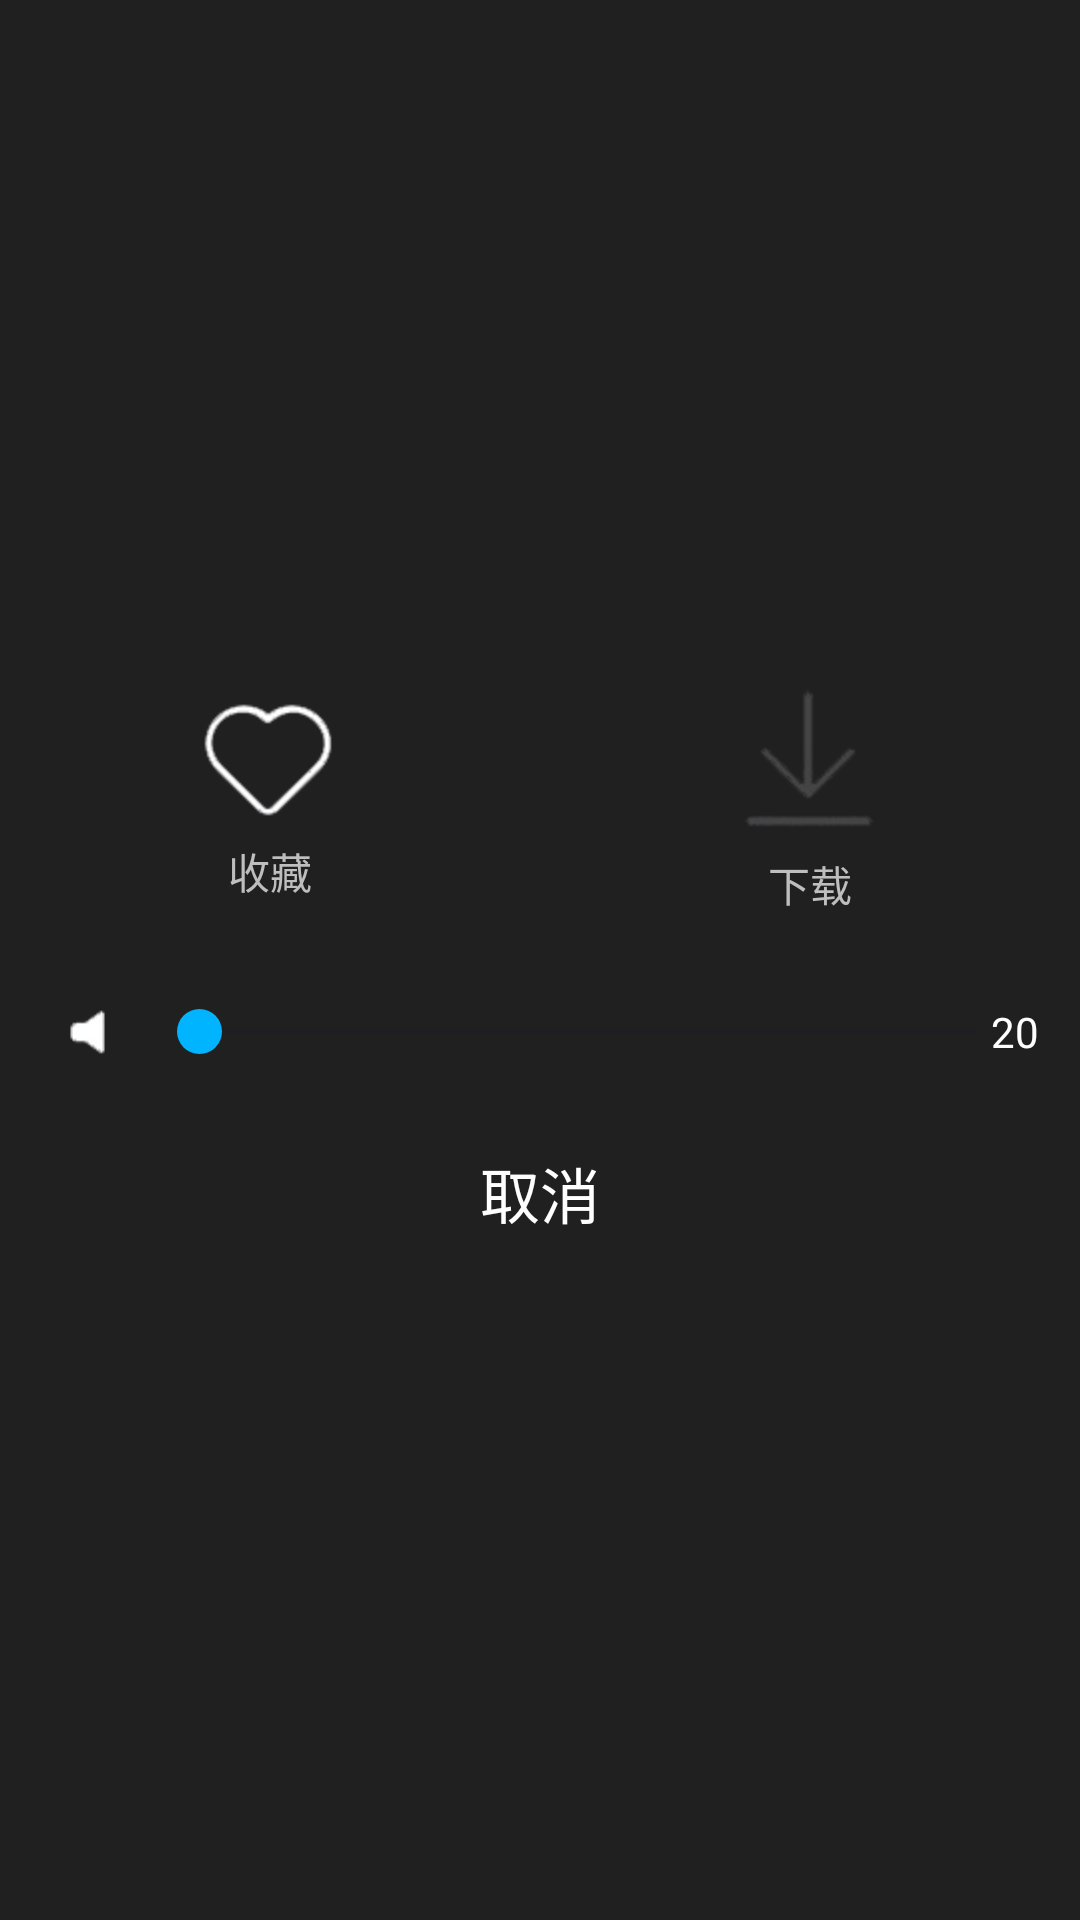

Point at icon controls on the screen. Image size 1080w x 1920h, points as (x,y).
sound: (87,1032)
